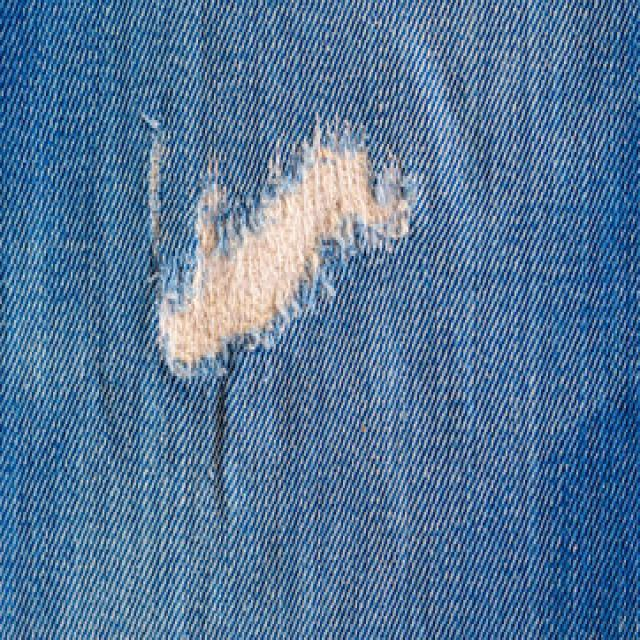Hole: (160, 121, 416, 377), (148, 136, 162, 274)
